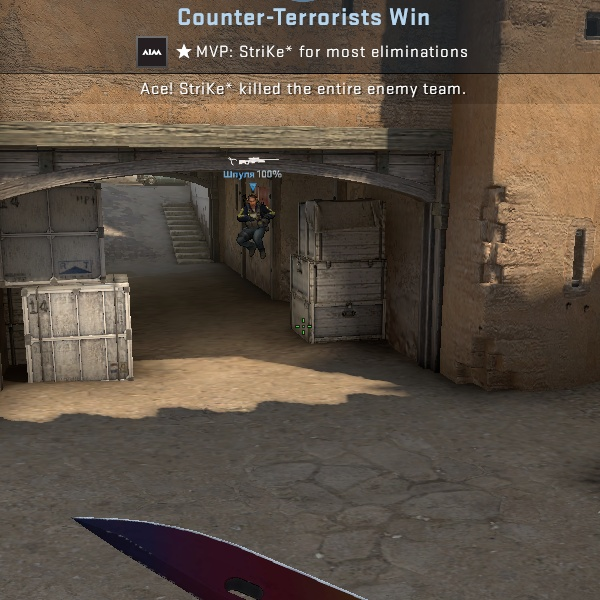ct_body: (235, 194, 274, 261)
ct_head: (246, 195, 258, 209)
